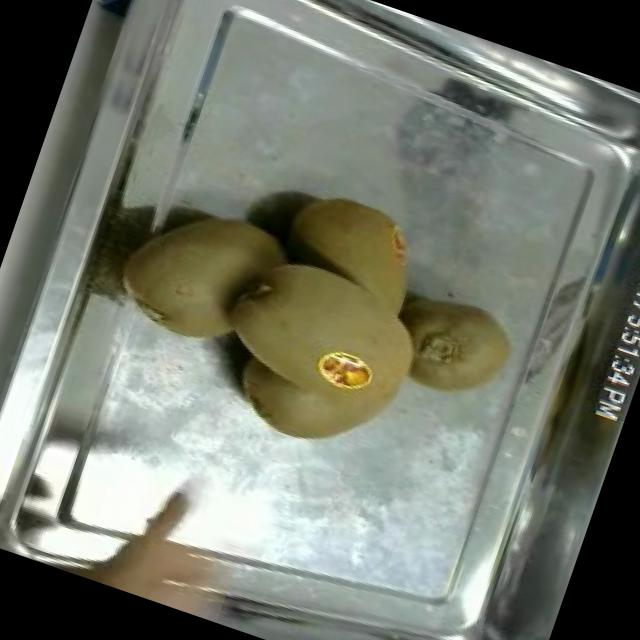Fruit: (202, 166, 466, 474), (97, 178, 310, 376), (68, 490, 281, 636), (364, 269, 536, 424)
